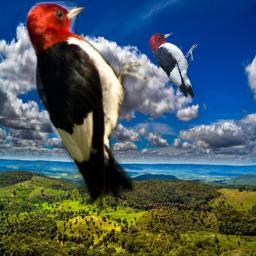Woodpecker: (24, 1, 151, 210), (149, 32, 199, 98)
